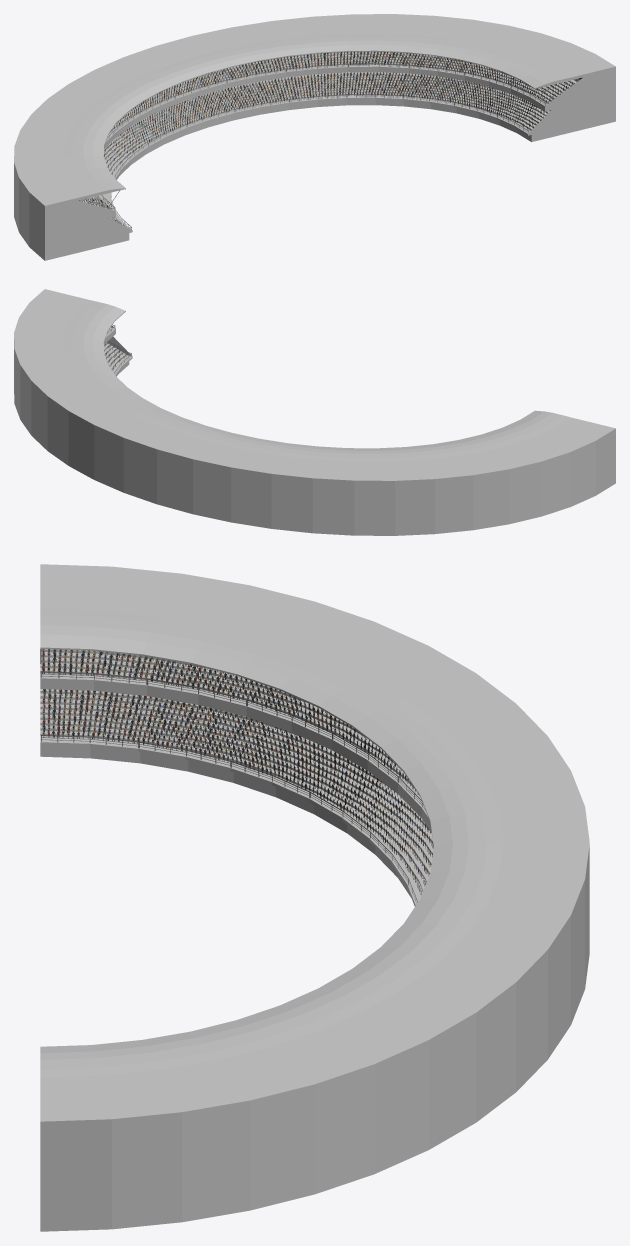
Rendered from Stand-09-2.fbx.
3 renders of one model, top to bottom at view 1: azimuth 30°, elevation 25°; view 2: azimuth 150°, elevation 25°; view 3: azimuth 270°, elevation 25°, orthographic. The views are drawn at different scales.
Parts seen in each view (by area): view 1: Stand-09, Audience; view 2: Stand-09; view 3: Stand-09, Audience.
Part boxes in pixels (x1,y1,x2,y2): Stand-09: (14,14,615,260); Audience: (79,51,574,226); Stand-09: (14,289,615,535); Stand-09: (40,564,589,1231); Audience: (42,649,433,894).
Size of the model in its own units: 25796 by 2384 by 10749.
